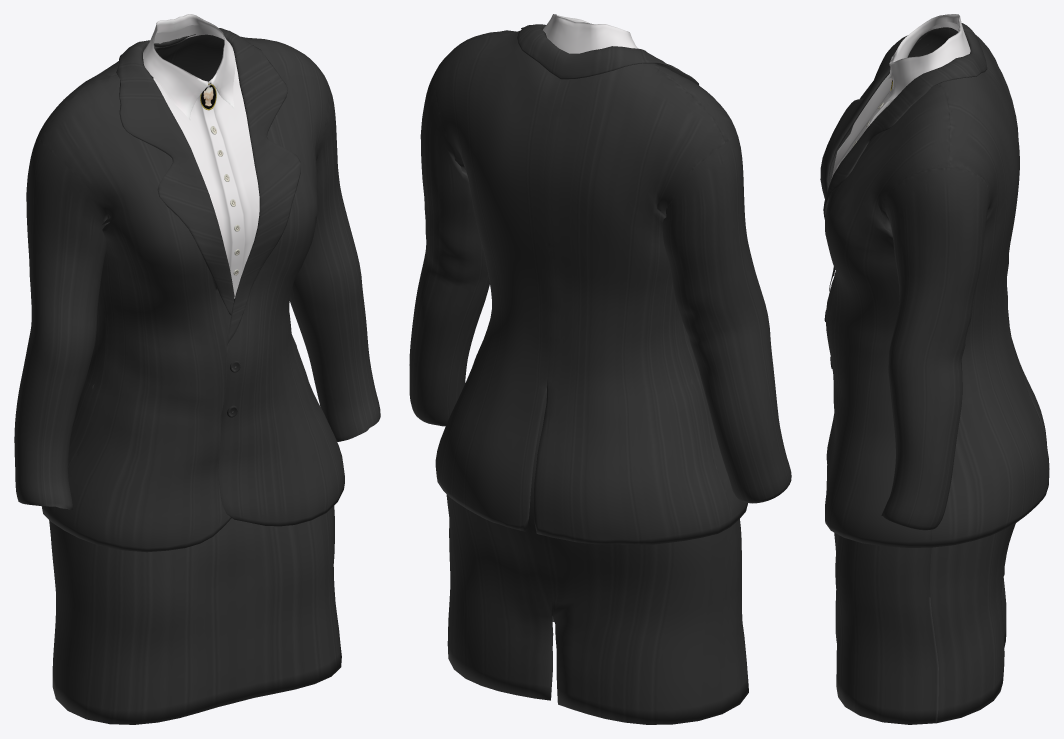
File: toigo-female-suit.glb
3 views of the same model, side by side, from view 1: azimuth 30°, elevation 25°; view 2: azimuth 150°, elevation 25°; view 3: azimuth 270°, elevation 25° (orthographic). The views are drawn at different scales.
Parts seen in each view (by area): view 1: Human.toigo_female_suit; view 2: Human.toigo_female_suit; view 3: Human.toigo_female_suit.
Boxes of the visible parts, x1,y1,x2,y2 form: Human.toigo_female_suit: [14, 14, 380, 724]; Human.toigo_female_suit: [409, 14, 791, 724]; Human.toigo_female_suit: [820, 14, 1049, 724].
Size of the model in its own units: 0.539 by 0.9285 by 0.3023.
1 material, 1 textured.
